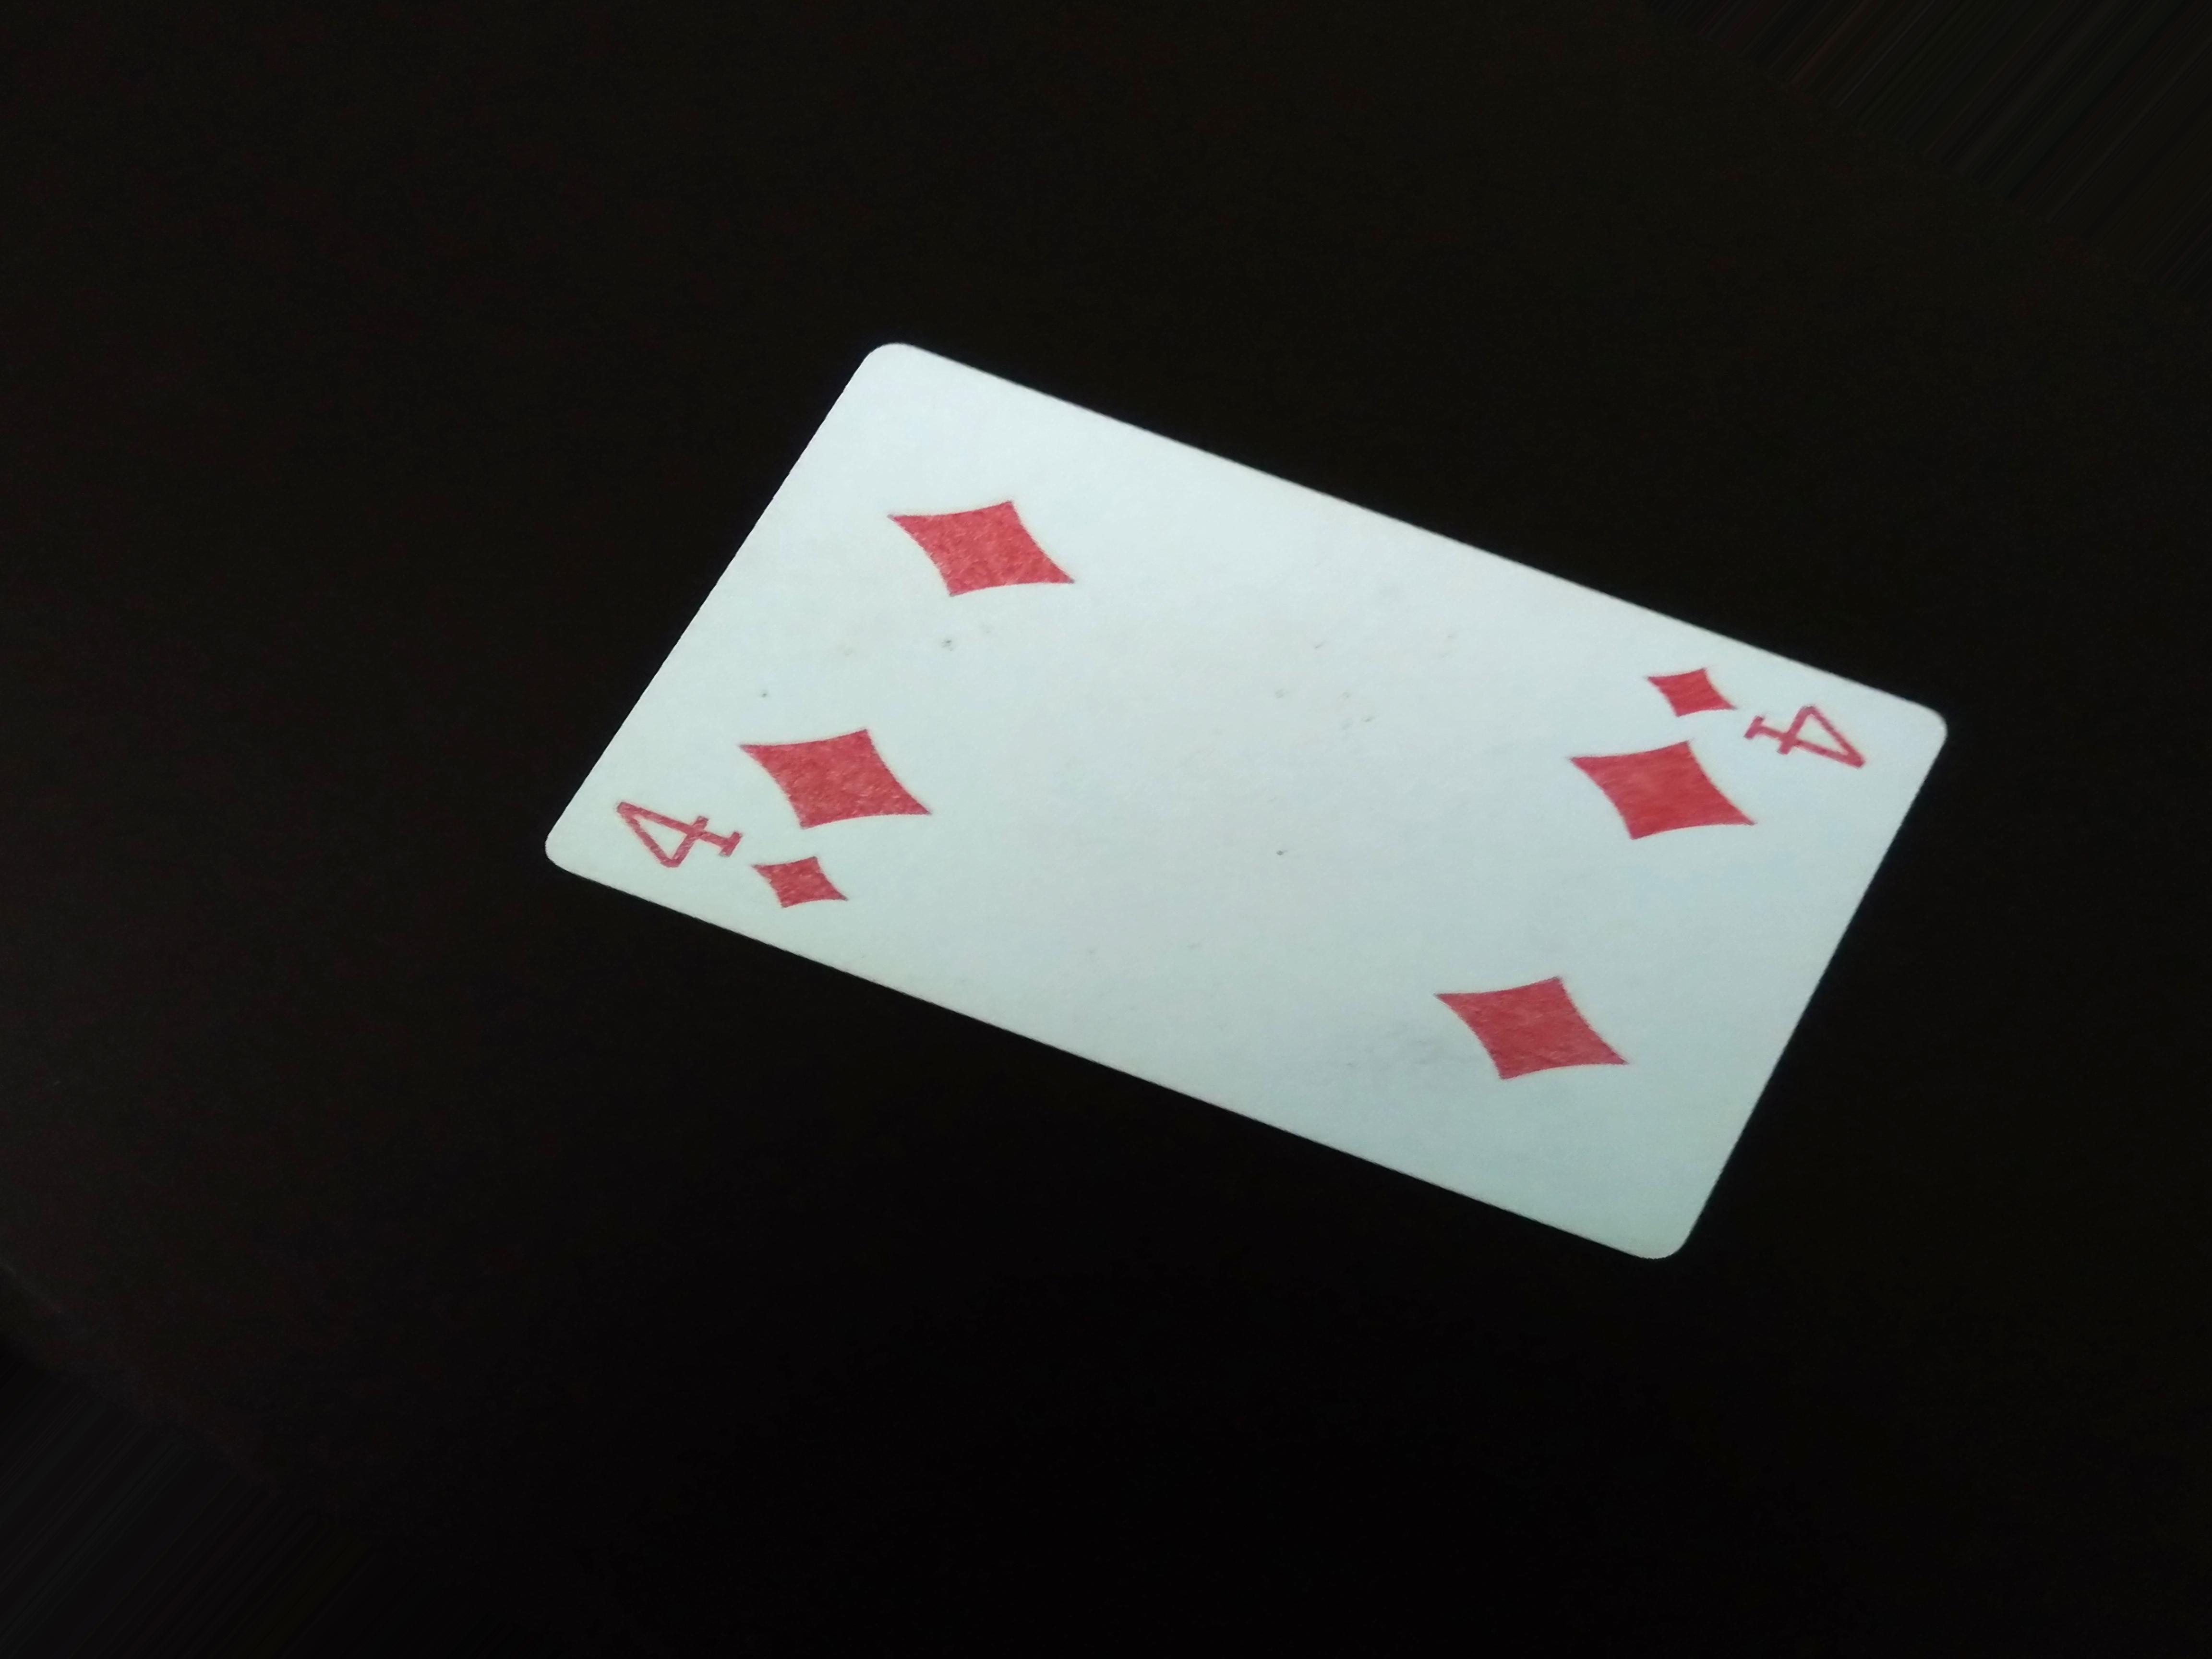4D: (606, 795, 843, 939)
